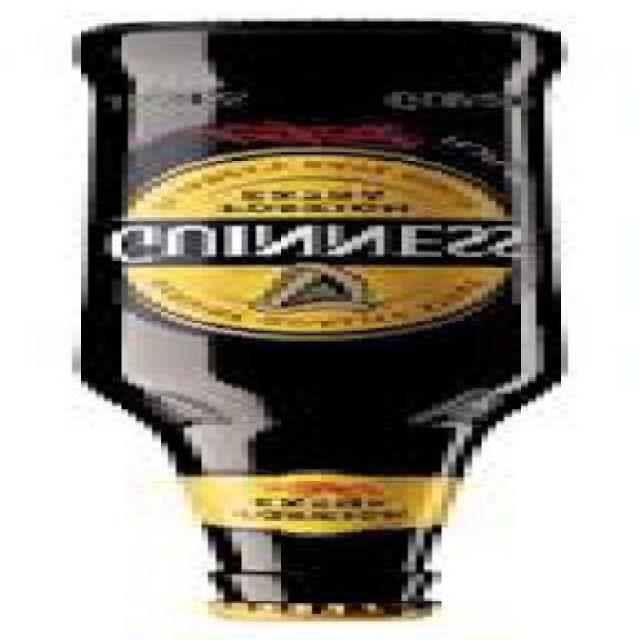GLASS: (72, 26, 560, 603)
METAL: (191, 600, 424, 625)
